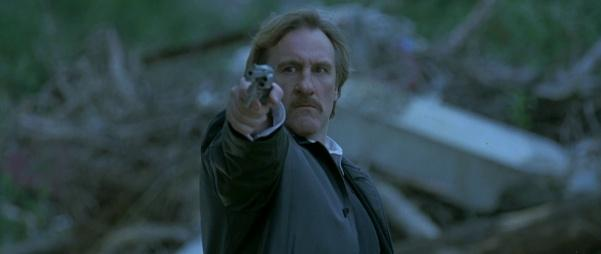Gun: (243, 65, 275, 106)
